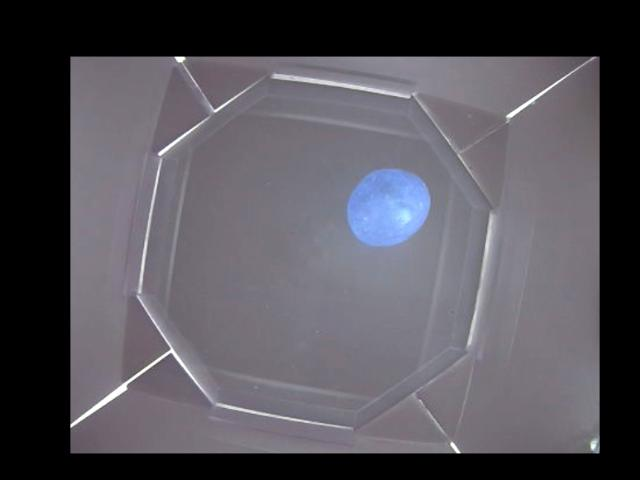Potato: (349, 169, 433, 242)
